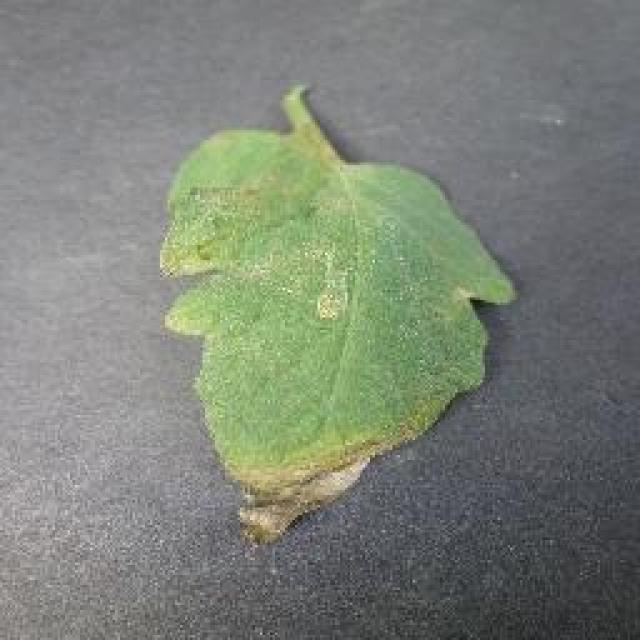Tomato___Late_blight: (158, 85, 518, 548)
